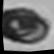correct: (0, 0, 54, 49)
